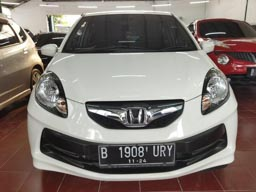plat: (98, 145, 174, 157)
